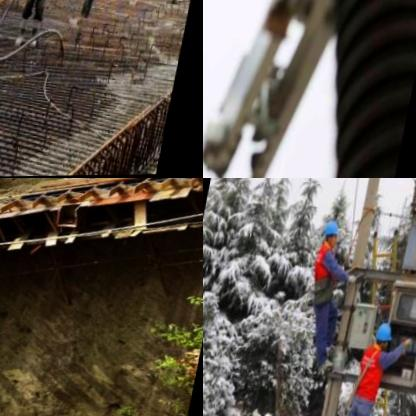helmet: (374, 318, 397, 352), (321, 218, 343, 250)
